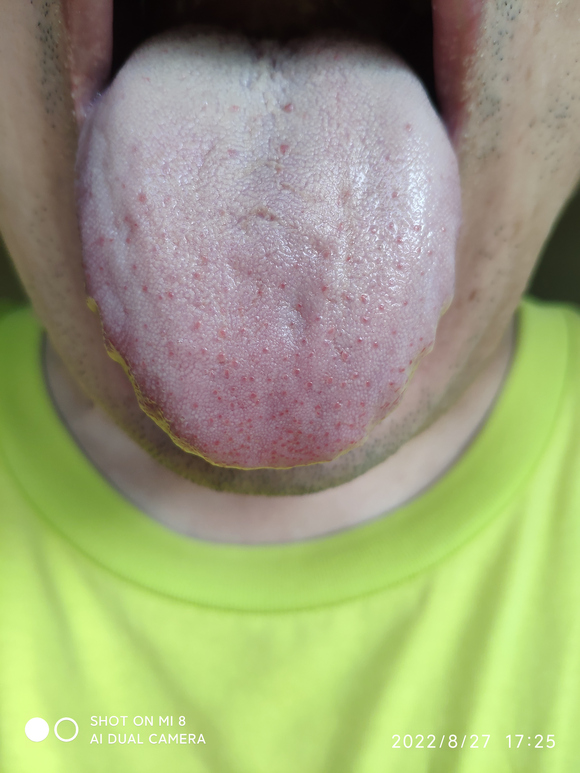baitaishe: (76, 22, 460, 470)
hongdianshe: (138, 280, 149, 295), (261, 343, 270, 358), (278, 279, 288, 291), (190, 398, 199, 411), (222, 367, 230, 381), (371, 339, 380, 350), (166, 289, 175, 299), (356, 333, 365, 343), (407, 356, 414, 368), (216, 393, 223, 403)
